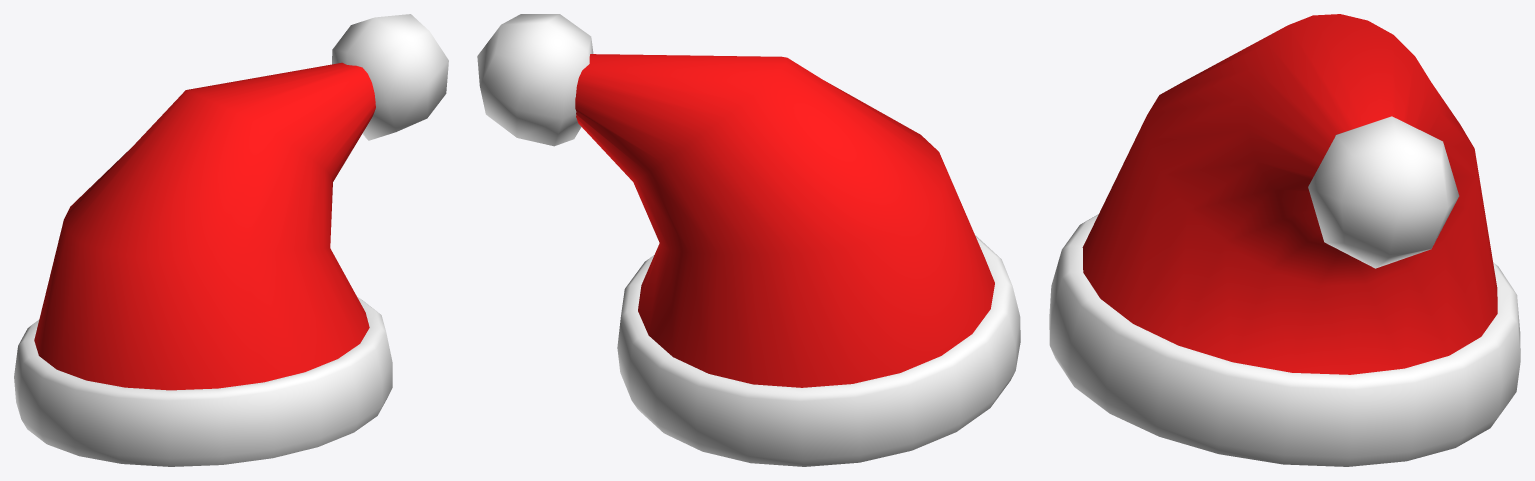
File: Hat_Satan.fbx
3 views of the same model, side by side, from view 1: azimuth 30°, elevation 25°; view 2: azimuth 150°, elevation 25°; view 3: azimuth 270°, elevation 25° (orthographic). The views are drawn at different scales.
Visible parts, largest first — view 1: Hat_Snta.001; view 2: Hat_Snta.001; view 3: Hat_Snta.001.
Part boxes in pixels (left/top/right/bottom): Hat_Snta.001: left=14, top=14, right=448, bottom=466; Hat_Snta.001: left=477, top=14, right=1020, bottom=466; Hat_Snta.001: left=1049, top=14, right=1520, bottom=466.
Bounding box in the file's own units: 35.24 × 24.62 × 25.96.
